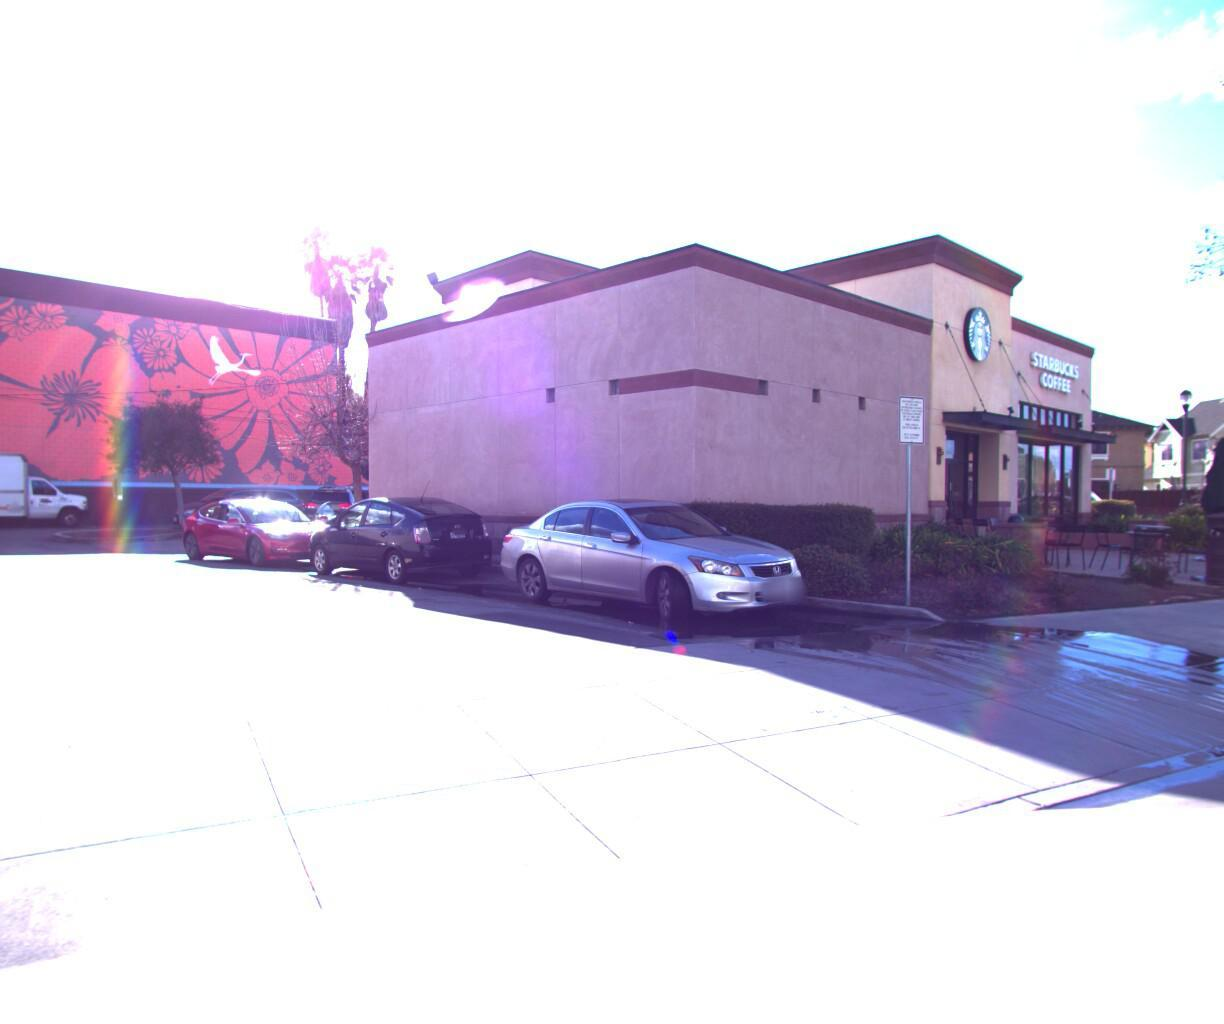car: (485, 489, 834, 638), (294, 495, 503, 592)
